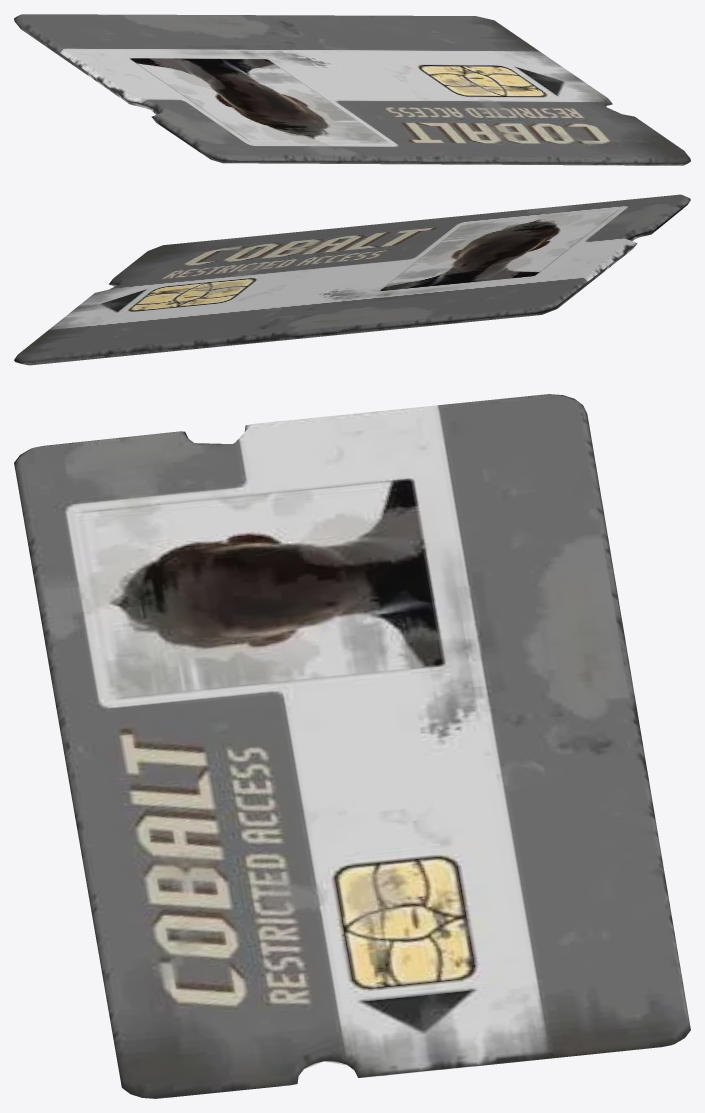
File: keycard.entity.glb
The picture shows the model from 3 angles, top to bottom: view 1: azimuth 30°, elevation 25°; view 2: azimuth 150°, elevation 25°; view 3: azimuth 270°, elevation 25°; orthographic projection. The views are drawn at different scales.
Parts seen in each view (by area): view 1: access_card_LOD0; view 2: access_card_LOD0; view 3: access_card_LOD0.
Boxes of the visible parts, x1,y1,x2,y2 form: access_card_LOD0: [14, 14, 690, 165]; access_card_LOD0: [14, 194, 690, 365]; access_card_LOD0: [14, 394, 690, 1098].
Size of the model in its own units: 0.1491 by 0.0469 by 0.1003.
1 material, 1 textured.
